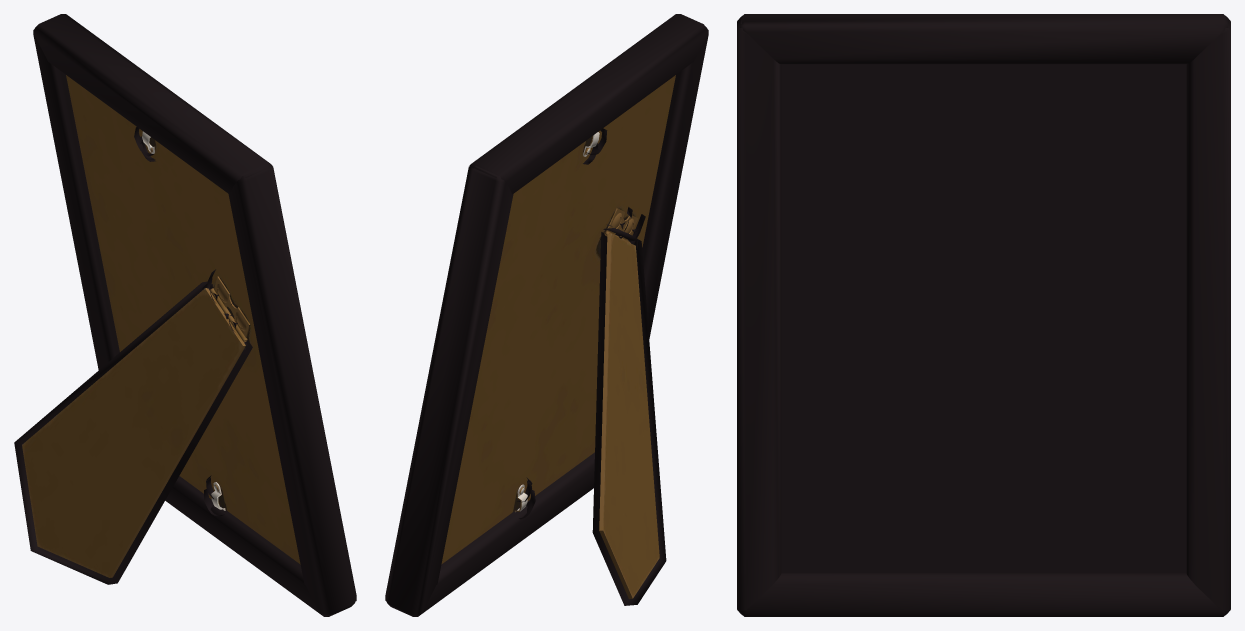
The model's file is SM_Int_PhotoFrame.fbx.
The picture shows the model from 3 angles, left to right: view 1: azimuth 30°, elevation 25°; view 2: azimuth 150°, elevation 25°; view 3: azimuth 270°, elevation 25°; orthographic projection. The views are drawn at different scales.
Visible parts, largest first — view 1: SM_Int_PhotoFrame; view 2: SM_Int_PhotoFrame; view 3: SM_Int_PhotoFrame.
Part boxes in pixels (box(x1,y1,x2,y2)): SM_Int_PhotoFrame: box(14, 14, 356, 616); SM_Int_PhotoFrame: box(385, 14, 708, 616); SM_Int_PhotoFrame: box(737, 14, 1230, 616).
Bounding box in the file's own units: 0.1074 × 0.2565 × 0.2081.
